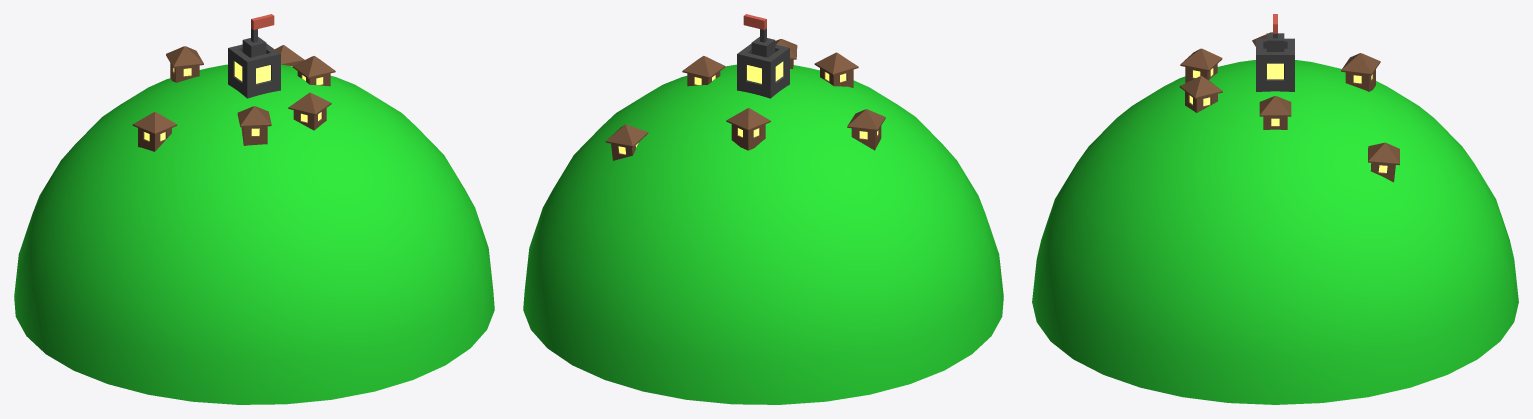
File: Island.fbx
3 renders of one model, left to right at view 1: azimuth 30°, elevation 25°; view 2: azimuth 150°, elevation 25°; view 3: azimuth 270°, elevation 25°, orthographic.
Visible parts, largest first — view 1: Sphere, Cube, House.003, House.002, House.001, House.004, House; view 2: Sphere, Cube, House.004, House.003, House.002, House.005, House; view 3: Sphere, Cube, House.004, House.001, House.005, House, House.002.
Boxes of the visible parts, left/top/right/bottom form: Sphere: left=14, top=64, right=494, bottom=404; Cube: left=228, top=14, right=280, bottom=98; House.003: left=132, top=112, right=177, bottom=151; House.002: left=237, top=106, right=271, bottom=145; House.001: left=288, top=92, right=331, bottom=130; House.004: left=166, top=46, right=203, bottom=82; House: left=292, top=56, right=335, bottom=86; Sphere: left=523, top=64, right=1003, bottom=404; Cube: left=737, top=14, right=789, bottom=98; House.004: left=726, top=108, right=770, bottom=150; House.003: left=847, top=109, right=885, bottom=150; House.002: left=814, top=52, right=858, bottom=87; House.005: left=605, top=124, right=648, bottom=160; House: left=682, top=56, right=725, bottom=86; Sphere: left=1032, top=60, right=1518, bottom=404; Cube: left=1256, top=14, right=1294, bottom=91; House.004: left=1341, top=53, right=1380, bottom=91; House.001: left=1179, top=76, right=1222, bottom=112; House.005: left=1368, top=142, right=1399, bottom=182; House: left=1259, top=96, right=1291, bottom=129; House.002: left=1180, top=48, right=1222, bottom=82.
Size of the model in its own units: 200 by 130 by 200.
